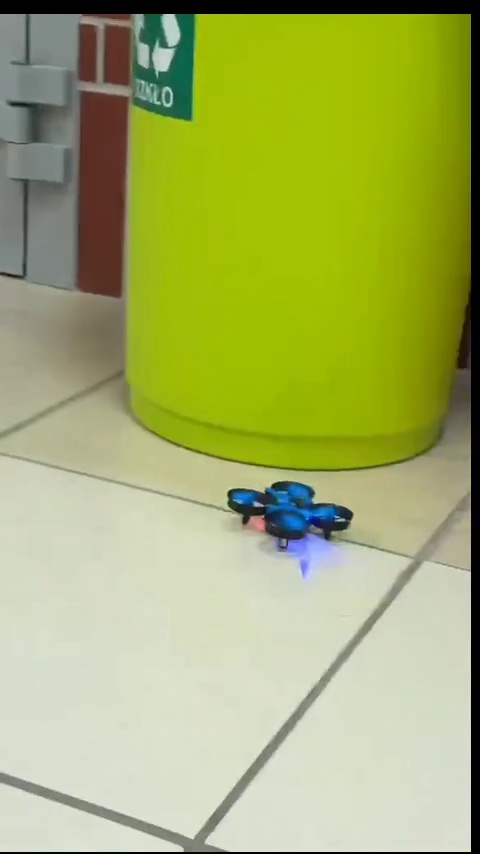drone: (232, 480, 356, 550)
